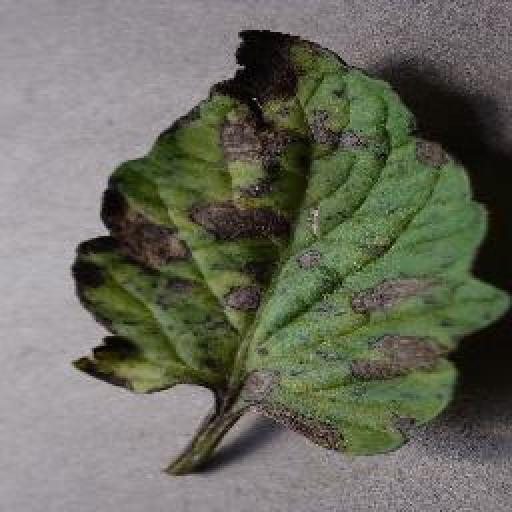Early Blight: (70, 32, 512, 460)
